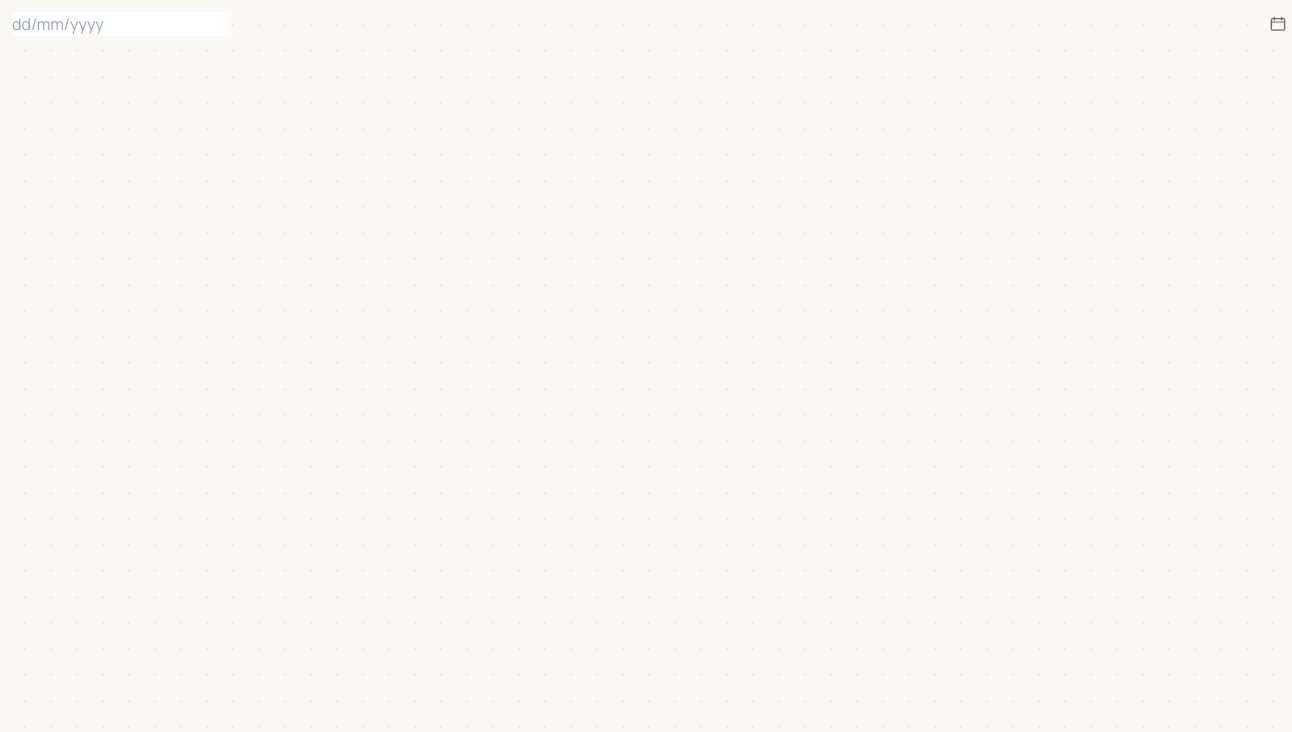
DateInput › auto-inserts slashes as digits are typed and commits once the date is complete
Step 1. Type "01072026" into the field named "Next step date" → {"x": 122, "y": 24}, box x1=12 y1=12 x2=231 y2=36
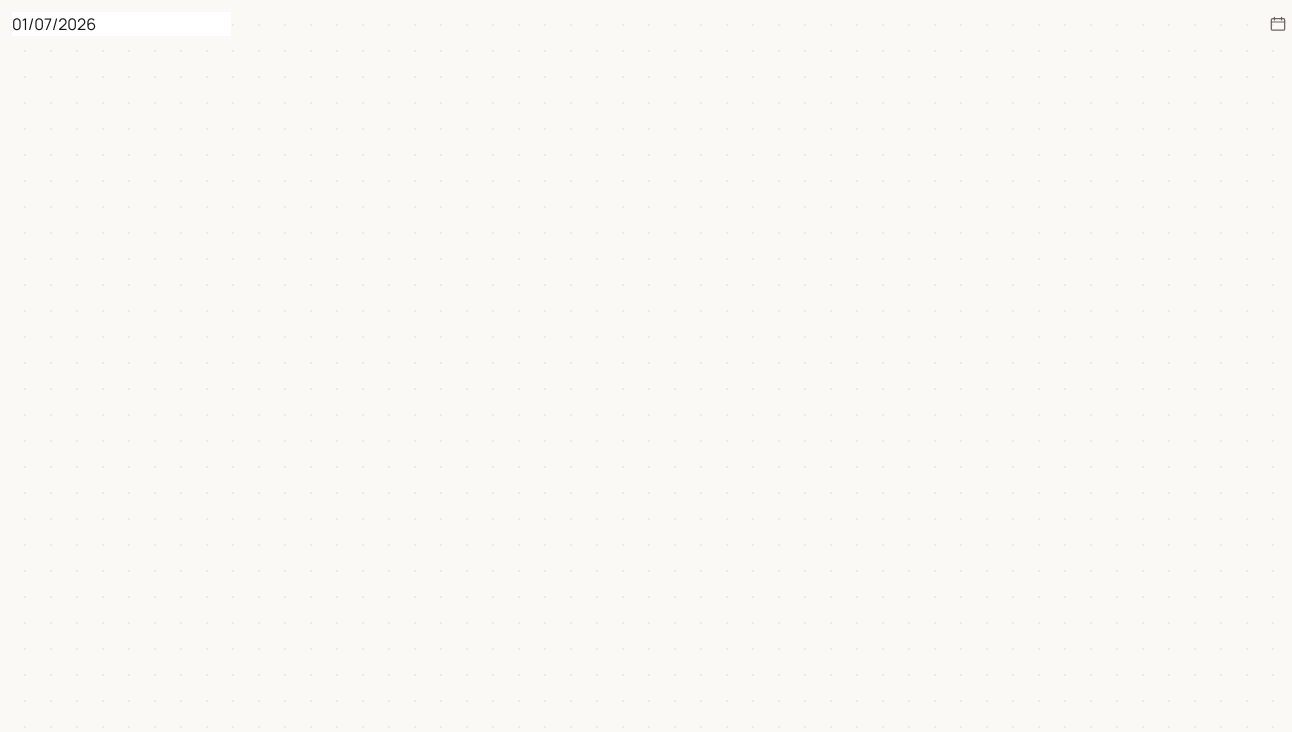
expect the field named "Next step date" holds "01/07/2026": met, box x1=12 y1=12 x2=231 y2=36
